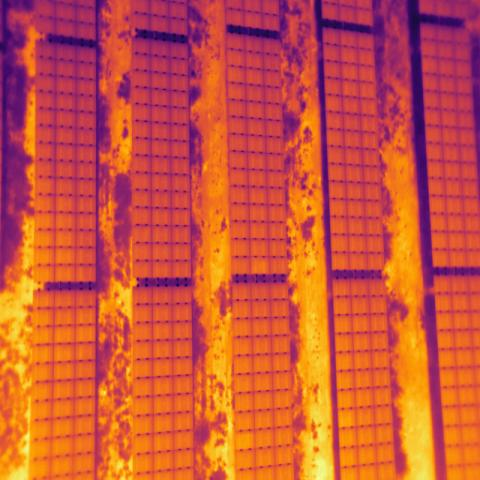fault: (251, 257, 269, 274)
